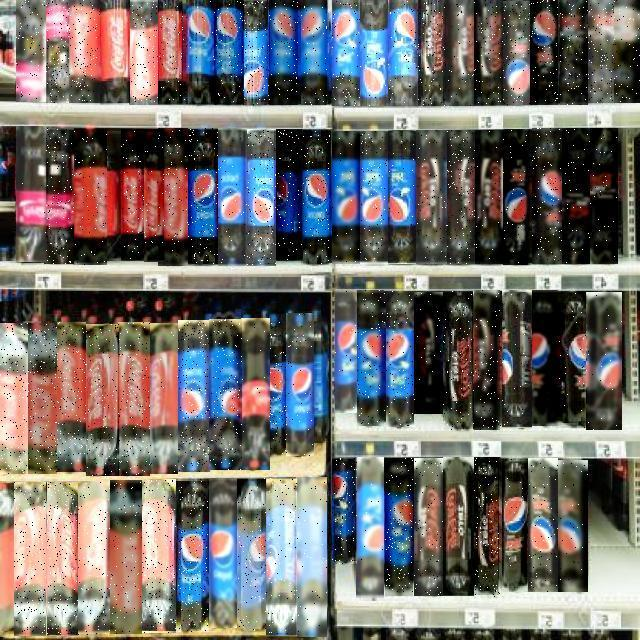Drinks: (142, 479, 176, 633), (86, 324, 119, 476), (209, 319, 242, 470), (587, 292, 623, 430), (296, 477, 327, 637), (118, 322, 150, 476), (110, 481, 142, 635), (78, 482, 110, 636), (14, 482, 46, 636), (266, 478, 297, 636), (178, 320, 210, 472), (236, 479, 267, 633), (47, 482, 78, 636), (73, 129, 107, 265), (178, 479, 208, 632), (241, 318, 270, 470), (443, 458, 474, 600), (28, 323, 57, 474), (57, 322, 86, 472), (443, 291, 474, 431), (150, 323, 178, 474), (0, 323, 28, 474), (556, 292, 587, 428), (209, 478, 237, 628), (416, 130, 447, 264), (158, 128, 188, 266), (502, 290, 532, 428), (246, 129, 276, 266), (532, 128, 562, 264), (188, 128, 218, 264), (44, 128, 74, 264), (16, 126, 46, 262), (528, 459, 558, 593), (286, 313, 314, 456), (218, 128, 247, 266), (414, 458, 443, 596), (356, 458, 384, 600), (558, 460, 588, 592), (474, 290, 502, 430), (474, 458, 502, 598), (385, 458, 413, 596), (591, 128, 619, 264), (562, 128, 590, 264), (504, 129, 532, 265), (532, 291, 560, 427), (386, 291, 414, 427), (358, 291, 386, 427), (475, 130, 503, 264), (447, 130, 475, 264), (389, 131, 417, 265), (361, 132, 389, 266), (332, 132, 360, 266), (303, 130, 331, 264), (275, 129, 303, 260), (414, 292, 443, 414), (66, 0, 100, 103), (503, 459, 529, 593), (264, 314, 287, 457), (388, 0, 418, 106), (214, 0, 244, 105), (186, 0, 216, 105), (417, 0, 446, 106), (16, 0, 46, 102), (474, 0, 503, 105), (100, 0, 129, 105), (121, 129, 144, 260), (446, 0, 474, 106), (360, 0, 388, 106), (332, 0, 360, 106), (560, 0, 588, 105), (530, 0, 558, 105), (272, 0, 300, 105), (244, 0, 272, 105), (158, 0, 186, 105), (130, 0, 158, 105), (502, 1, 530, 105), (301, 0, 327, 105), (335, 290, 357, 413), (614, 0, 640, 103), (589, 0, 615, 103), (43, 0, 69, 103), (144, 129, 164, 262), (332, 458, 357, 564)
